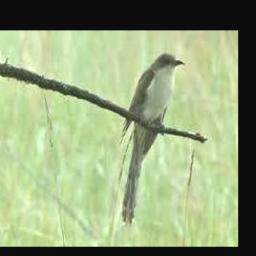Cuckoo: (118, 53, 184, 226)
